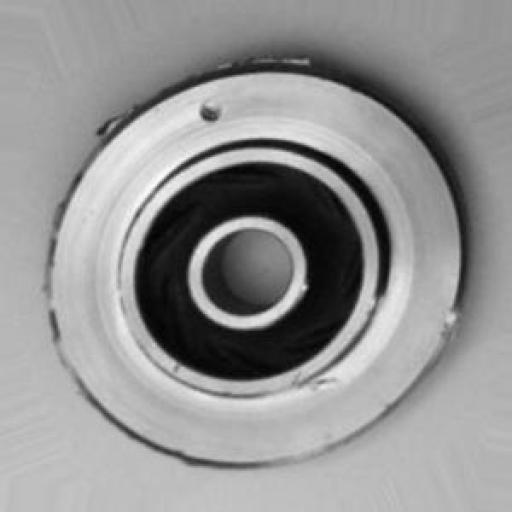defect: (18, 18, 490, 473), (179, 86, 238, 134)
